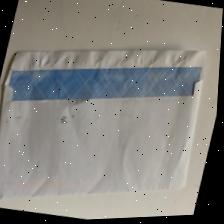paper: (0, 3, 223, 224)
